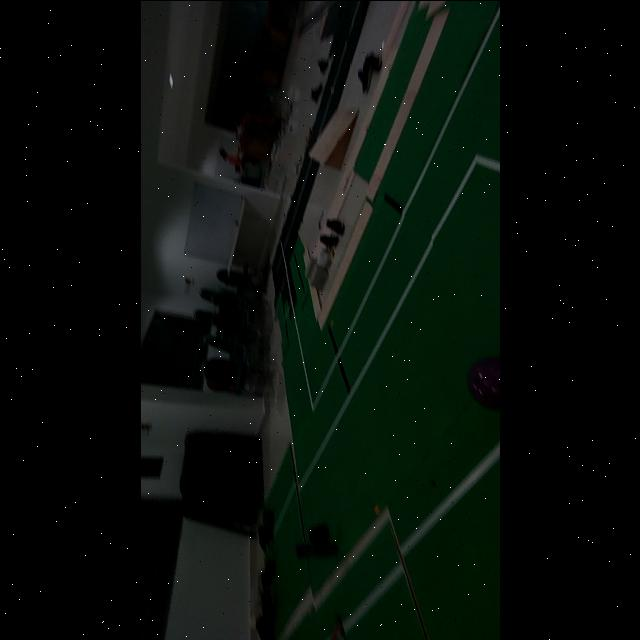P: (467, 357, 500, 410)
